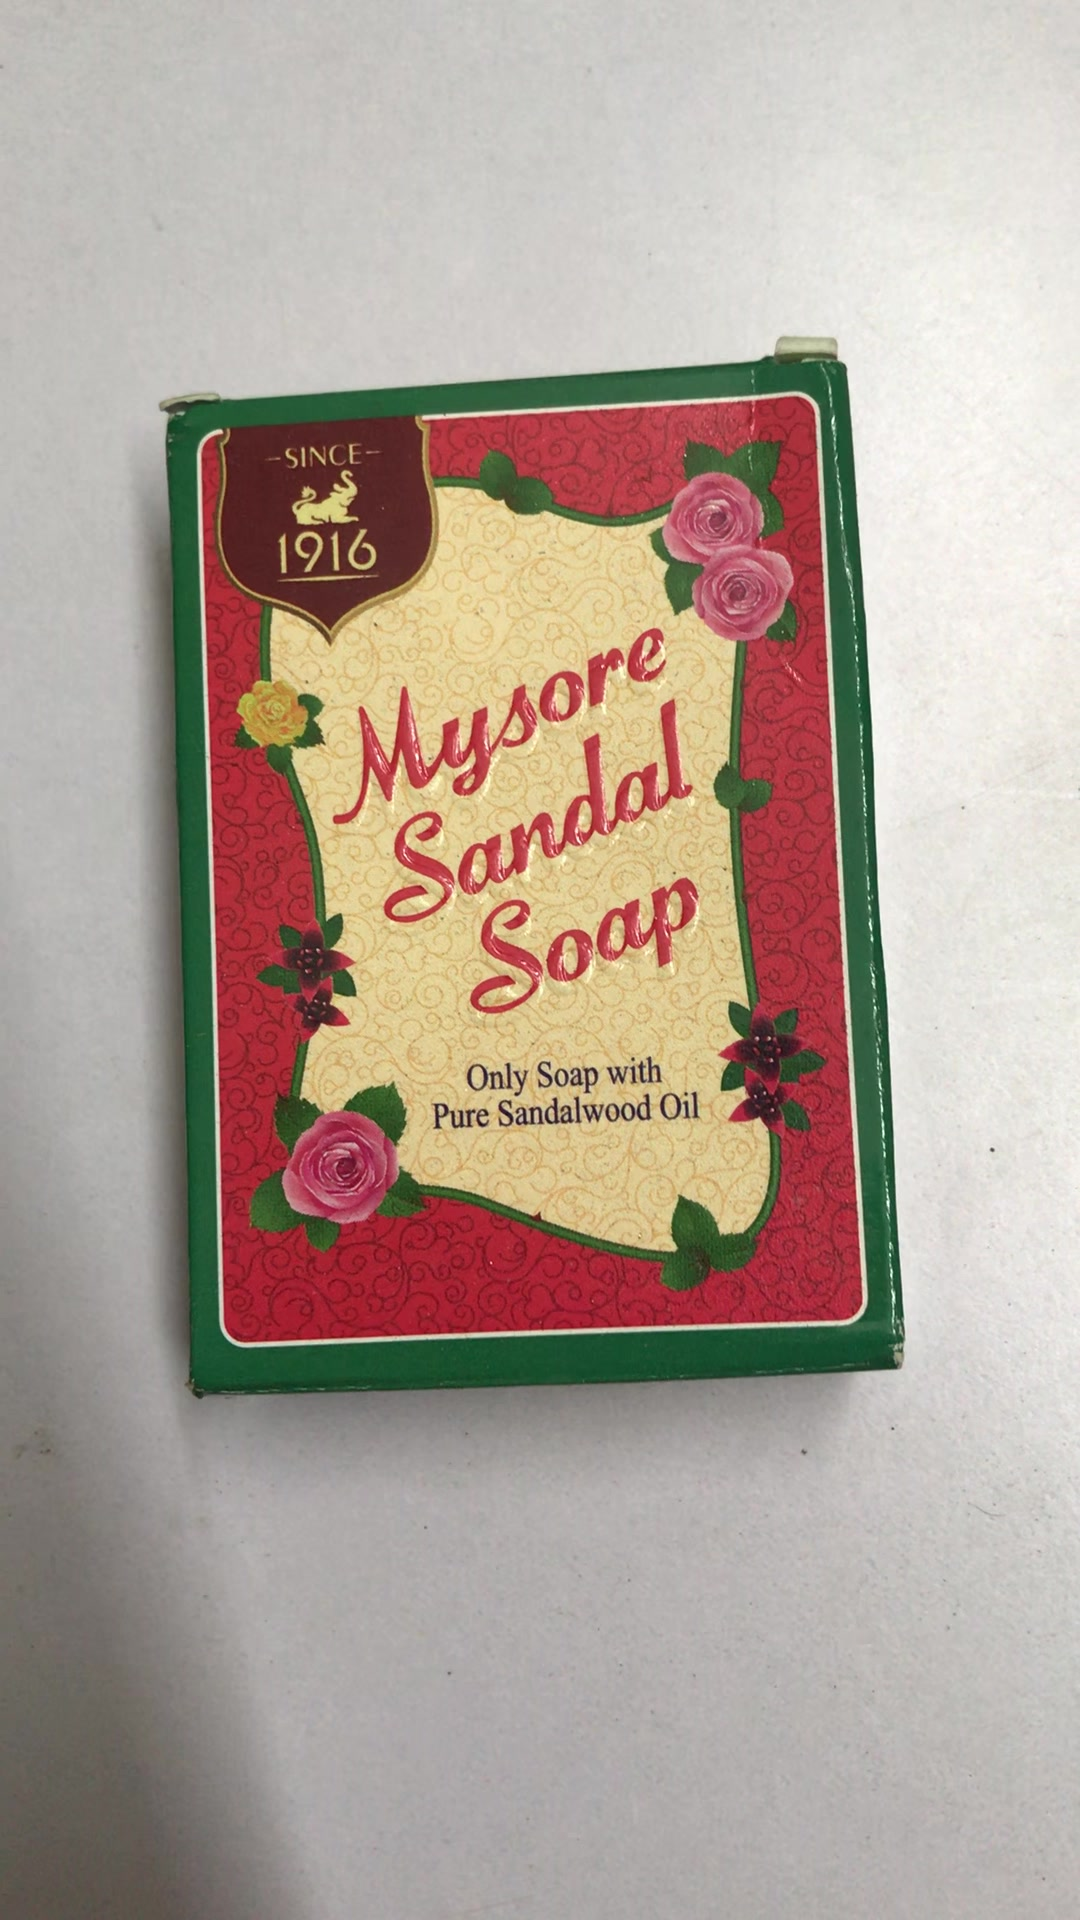mysore sandal soap: (182, 396, 895, 1375)
